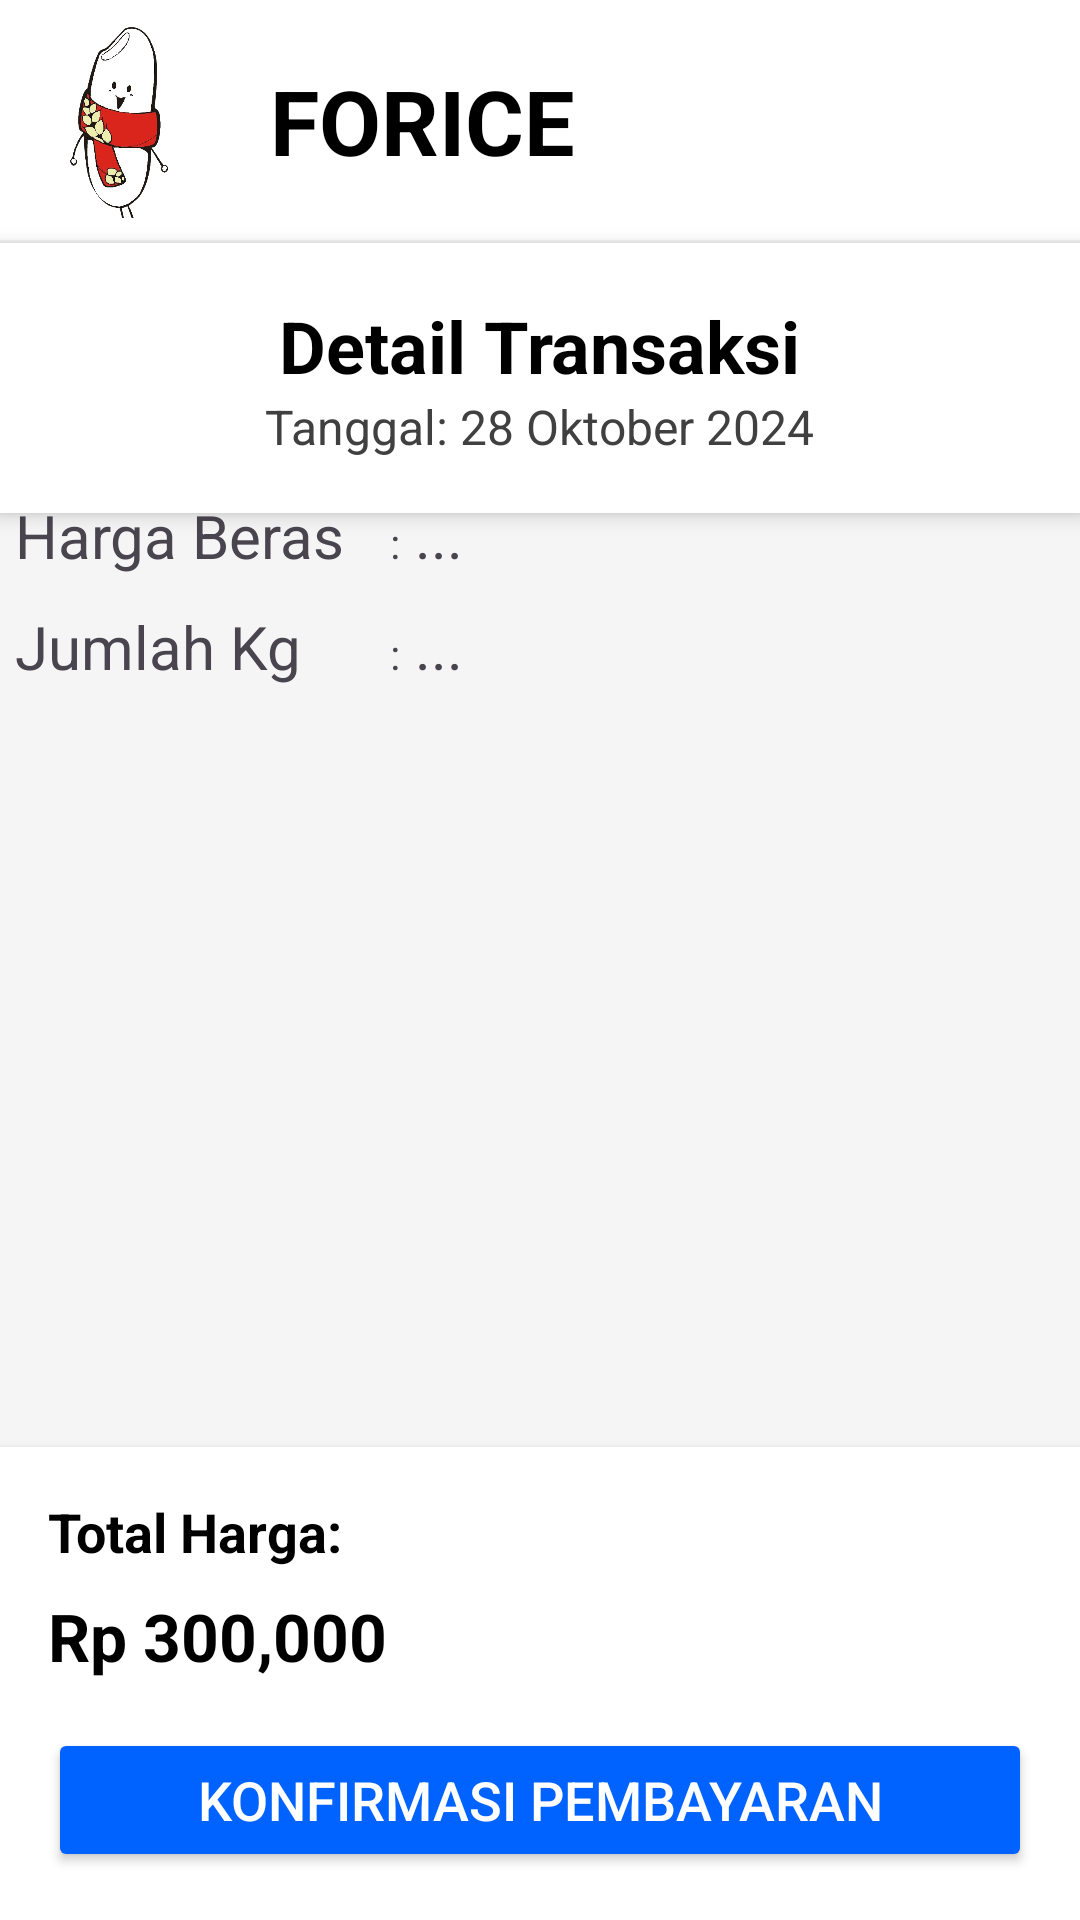

Icon bounding boxes for this 1080 × 1920 phone screenshot, format {"left": x1, "top": y1, "right": x2, "bottom": y2}:
forrice: {"left": 70, "top": 27, "right": 168, "bottom": 218}
